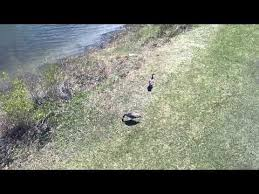goose: (120, 112, 143, 122), (147, 73, 157, 90)
